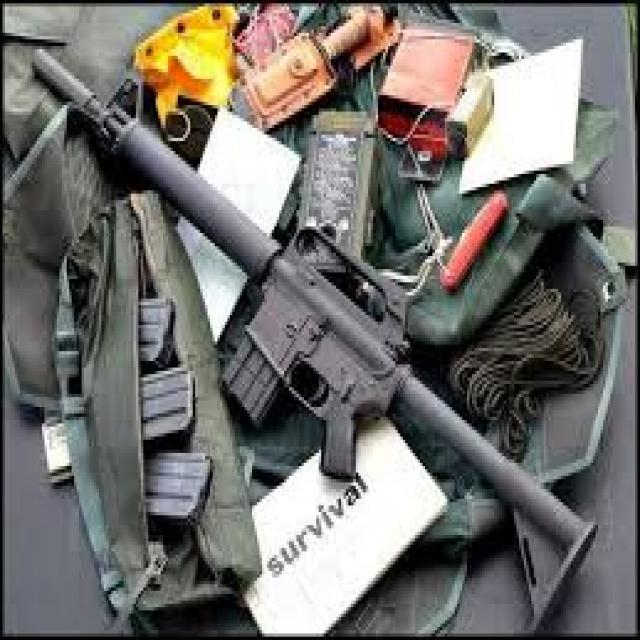m16: (137, 101, 536, 528)
